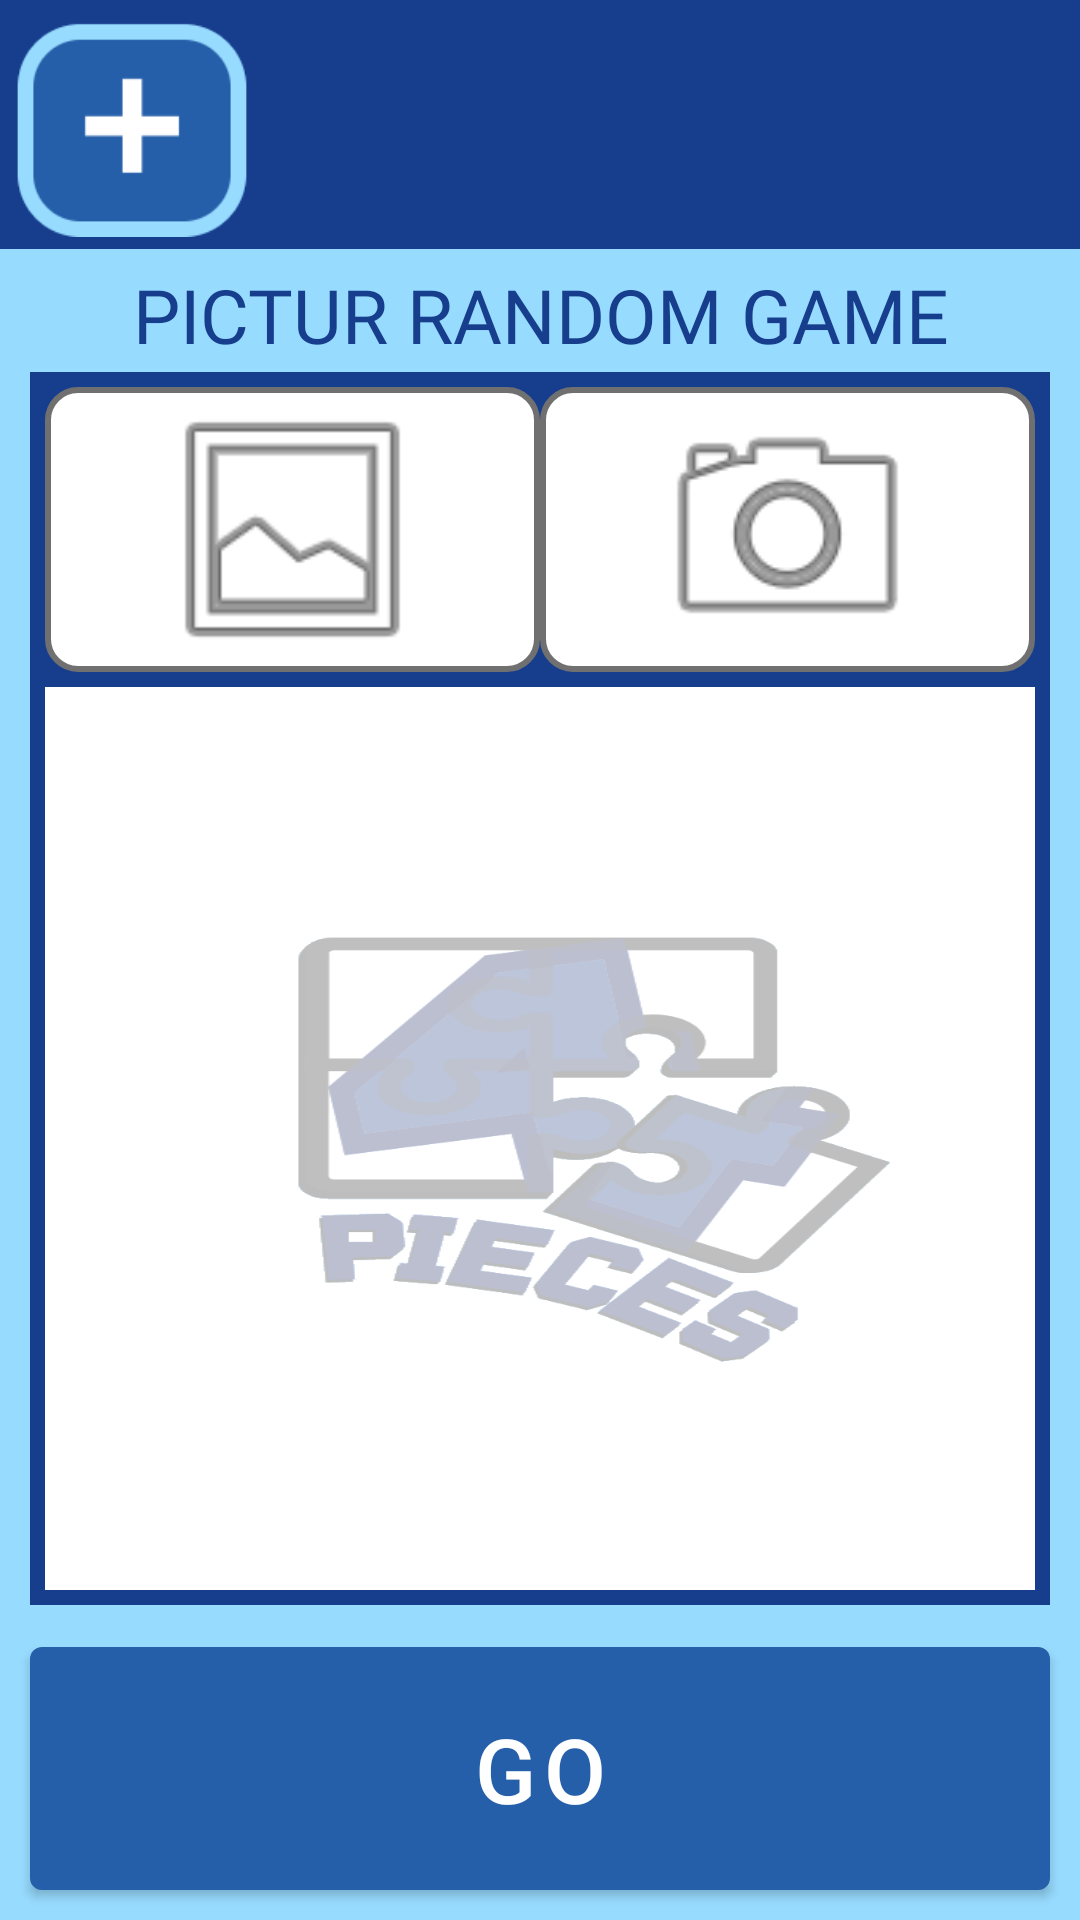

Named icons in this screenshot (1080x1920) and their bounding boxes, bbox=[x1, y1, x2, y2]:
plusbtn: bbox=[17, 24, 247, 237]
